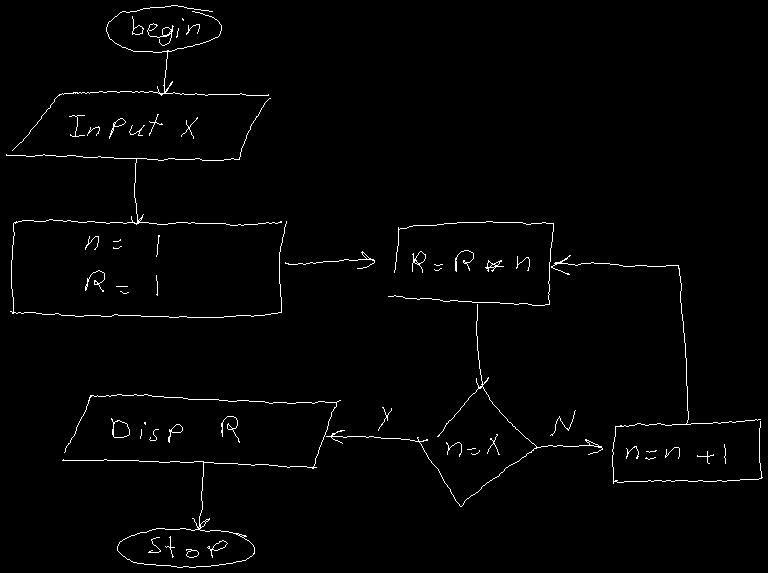arrow: (551, 255, 688, 424), (285, 251, 374, 268), (326, 430, 427, 443), (192, 461, 209, 529), (476, 304, 488, 388), (536, 439, 602, 454), (131, 158, 143, 224), (157, 50, 172, 95)
data: (62, 394, 340, 468), (6, 91, 270, 160)
decision: (417, 384, 537, 506)
process: (10, 219, 286, 317), (388, 221, 553, 305), (612, 419, 762, 483)
terminator: (106, 5, 221, 52), (117, 528, 254, 567)
text: (85, 235, 159, 295), (111, 416, 239, 442), (69, 114, 197, 138), (412, 250, 529, 272), (132, 16, 199, 45), (626, 444, 725, 463), (148, 536, 227, 557), (446, 434, 499, 456), (550, 410, 575, 435), (378, 407, 391, 430)
